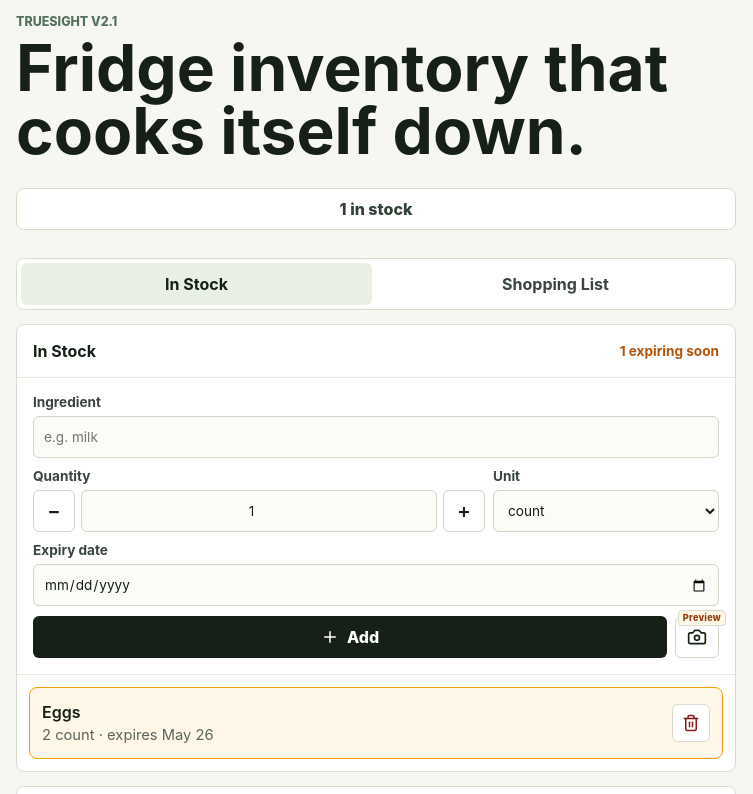
Test: App › switches to the shopping list tab
Check: the heading "Eggs" is shown, box [42,702,80,722]
What coordinates should you click on to do the following:
click the tab "Shopping List"
I would click on:
 (556, 284)
Its box is [380,263,731,305].
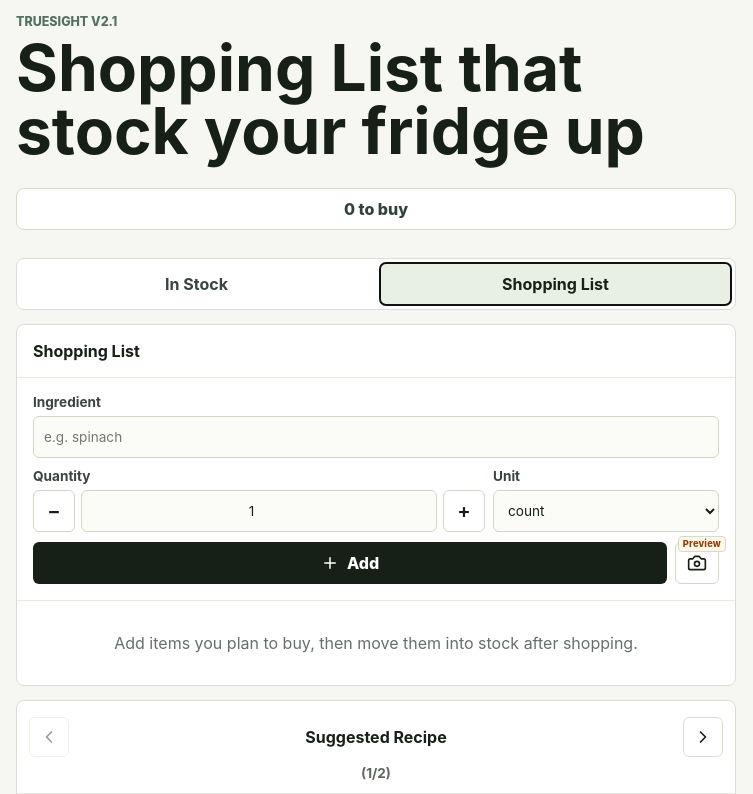
Check: the heading "Shopping List" is shown, box [33,341,140,361]
Check: the heading "Shopping List that stock your fridge up" is shown, box [16,37,696,162]
Check: the heading "Fridge inventory that cooks itself down." is gone
